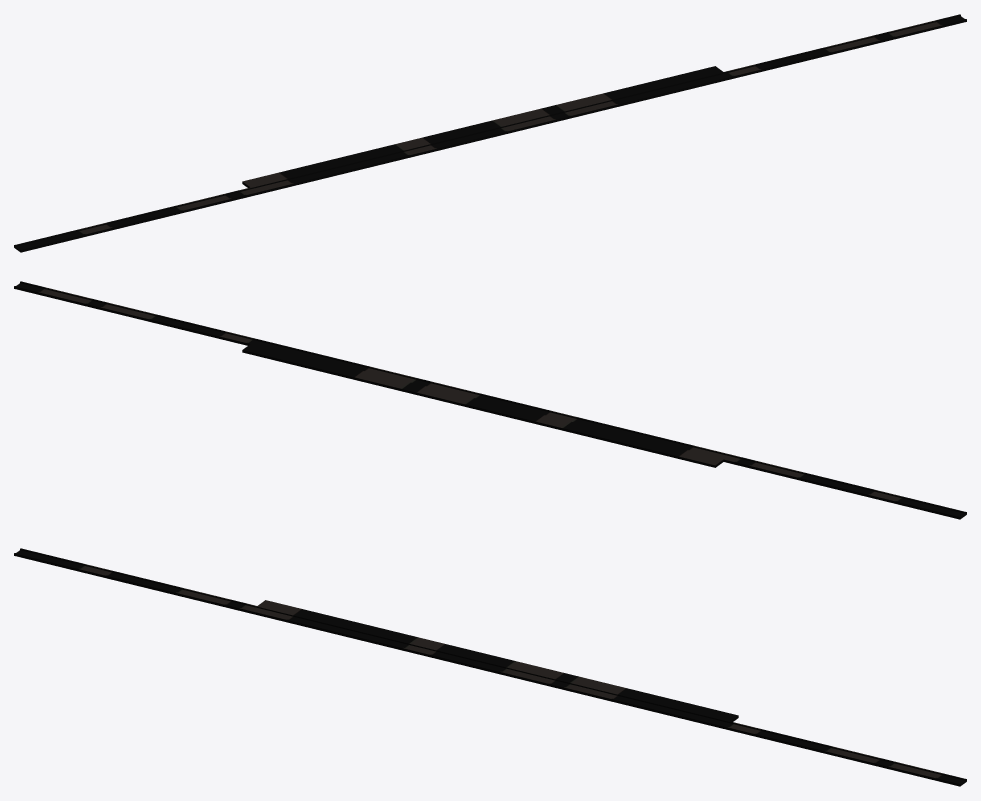
File: original-1.obj
The picture shows the model from 3 angles, top to bottom: view 1: azimuth 30°, elevation 25°; view 2: azimuth 150°, elevation 25°; view 3: azimuth 330°, elevation 25°; orthographic projection.
Visible parts, largest first — view 1: Group2/mesh1/mesh1-geometry#mesh1-geometry; view 2: Group2/mesh1/mesh1-geometry#mesh1-geometry; view 3: Group2/mesh1/mesh1-geometry#mesh1-geometry.
Part boxes in pixels (bbox=[...]): Group2/mesh1/mesh1-geometry#mesh1-geometry: bbox=[14, 14, 966, 252]; Group2/mesh1/mesh1-geometry#mesh1-geometry: bbox=[14, 281, 966, 519]; Group2/mesh1/mesh1-geometry#mesh1-geometry: bbox=[14, 548, 966, 786].
Bounding box in the file's own units: 1.76 × 0.00441 × 0.0485.
